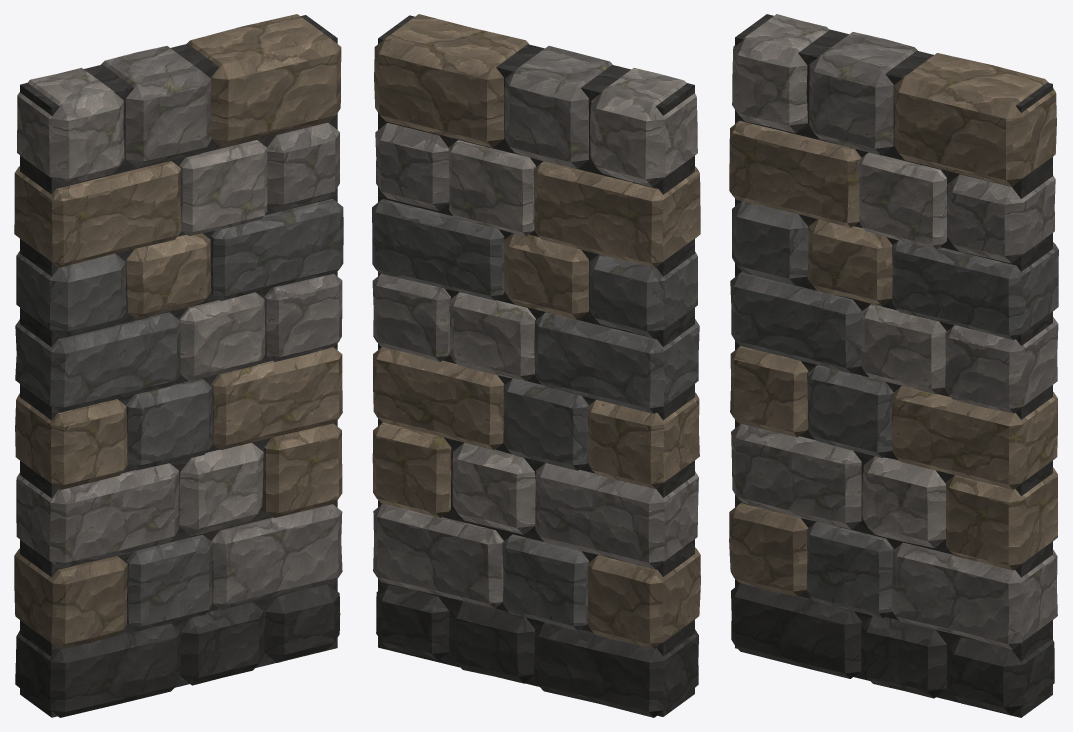
Rendered from wall_narrow__cut_stone.glb.
3 renders of one model, left to right at view 1: azimuth 30°, elevation 25°; view 2: azimuth 150°, elevation 25°; view 3: azimuth 330°, elevation 25°, orthographic.
Visible parts, largest first — view 1: model; view 2: model; view 3: model.
Boxes of the visible parts, x1=… form: model: x1=14, y1=14, x2=343, y2=717; model: x1=372, y1=14, x2=700, y2=717; model: x1=729, y1=14, x2=1058, y2=717.
Size of the model in its own units: 0.9854 by 1.99 by 0.2818.
Materials: 6 (6 with a texture image).
